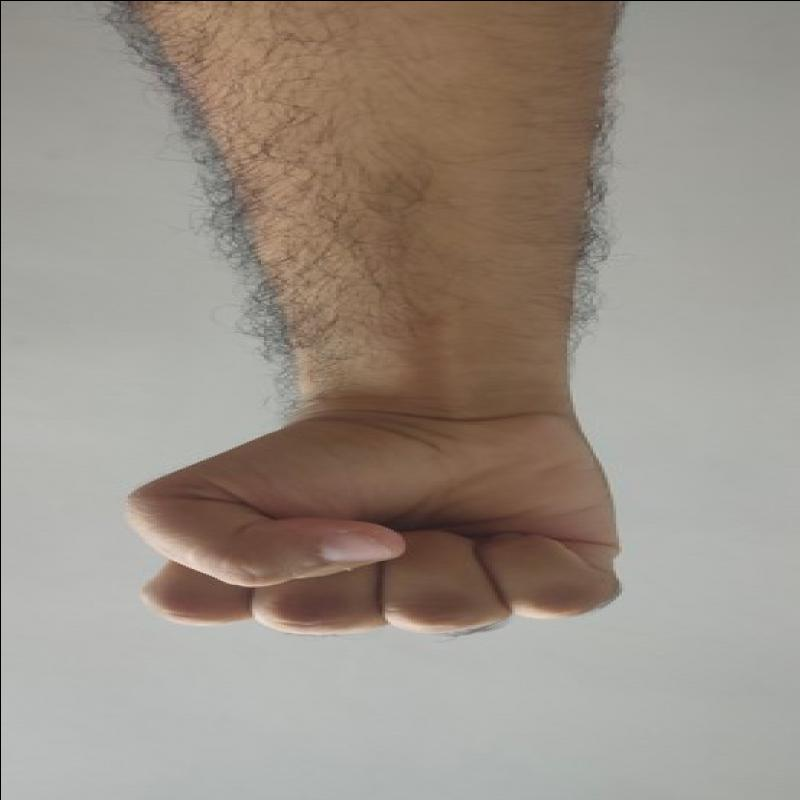Mushti: (106, 380, 651, 657)
